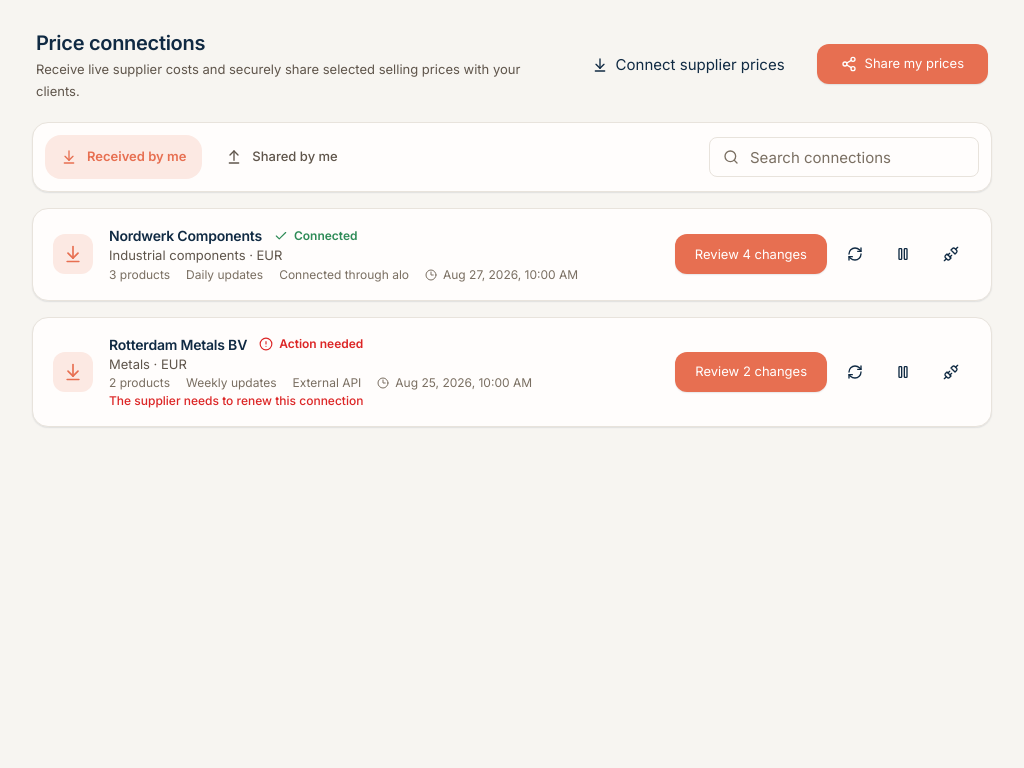
it: price connections › connects an alo supplier only after its invitation has been previewed
This screenshot has width=1024, height=768.
Expected: the heading "Nordwerk Components" is shown, top-left (109, 225), bottom-right (262, 246)
Click the button "Connect supplier prices" at (688, 65), box top-left (568, 44), bottom-right (809, 86)
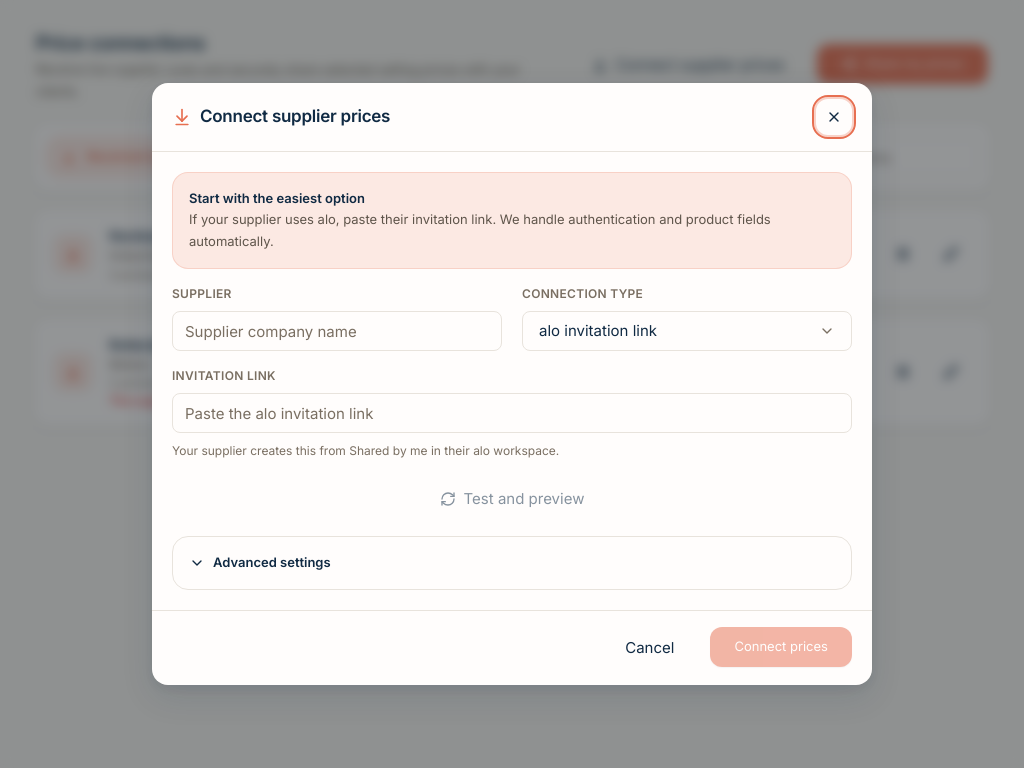
Type "Fjord Fasteners AS" into the field with placeholder "Supplier company name" at (337, 331), box top-left (172, 311), bottom-right (502, 351)
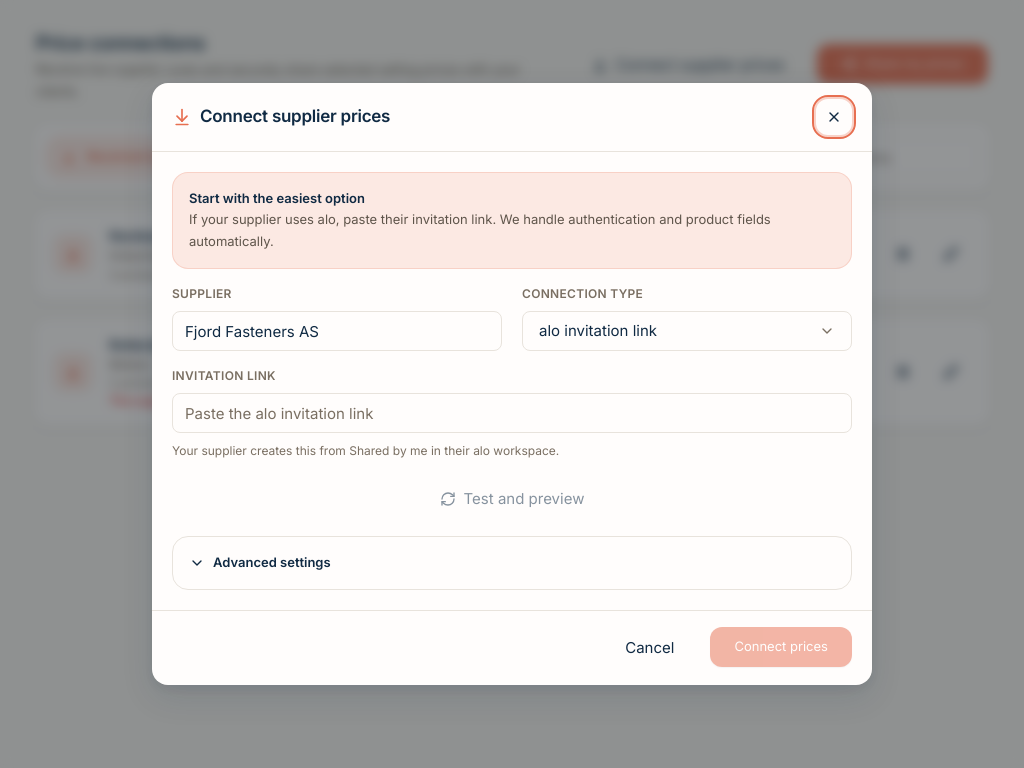
Result: the button "Test and preview" is disabled at top-left (172, 478), bottom-right (852, 520)
Type "https://alo.example/connect/prices/FJORD" into the field with placeholder "Paste the alo invitation link" at (512, 413), box top-left (172, 393), bottom-right (852, 433)
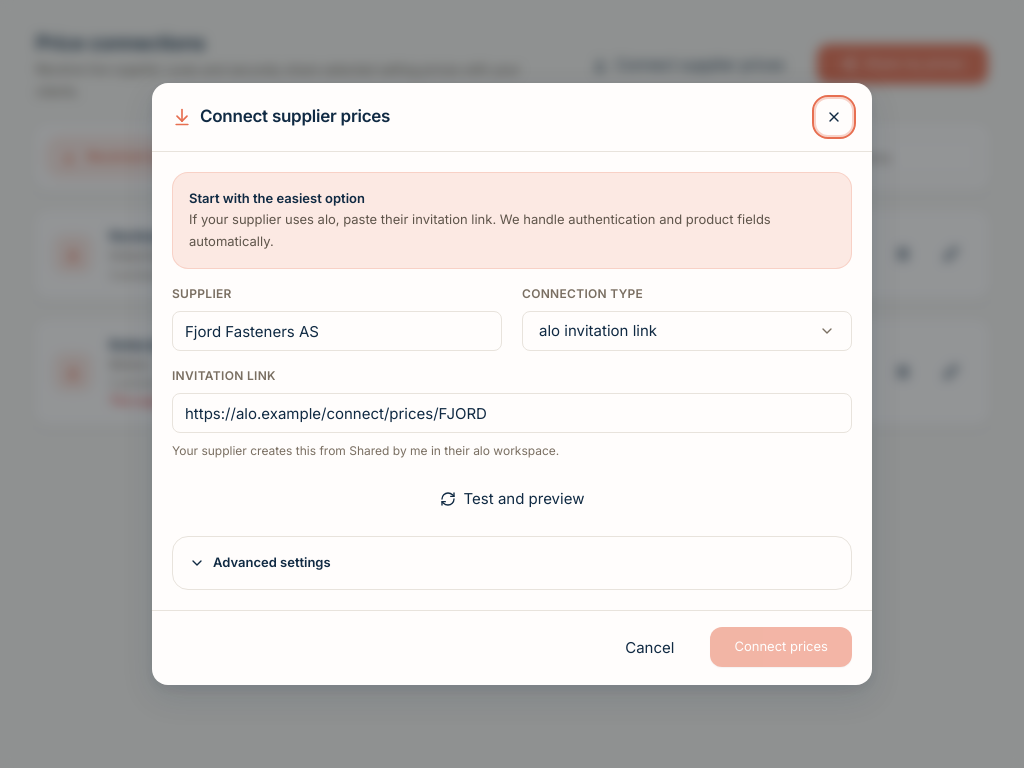
Click the button "Test and preview" at (512, 499), box top-left (172, 478), bottom-right (852, 520)
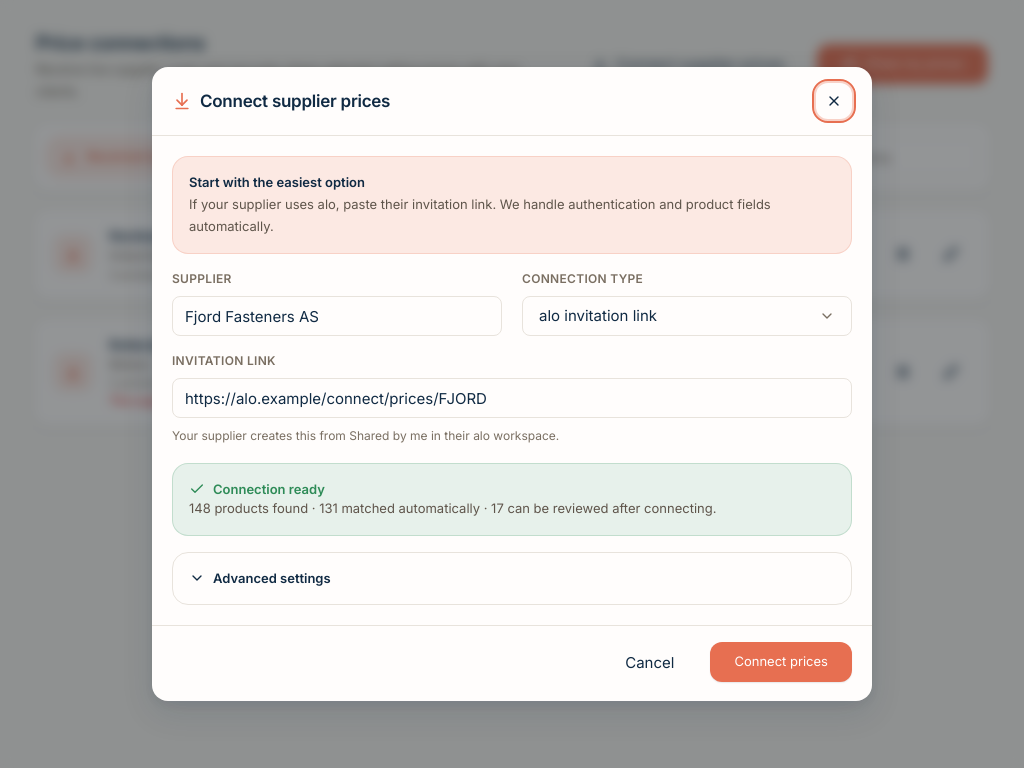
Result: the text "148 products found · 131 matched automatically · 17 can be reviewed after connecting." is shown at top-left (189, 500), bottom-right (716, 516)
Click the button "Connect prices" at (781, 662), box top-left (710, 642), bottom-right (852, 682)
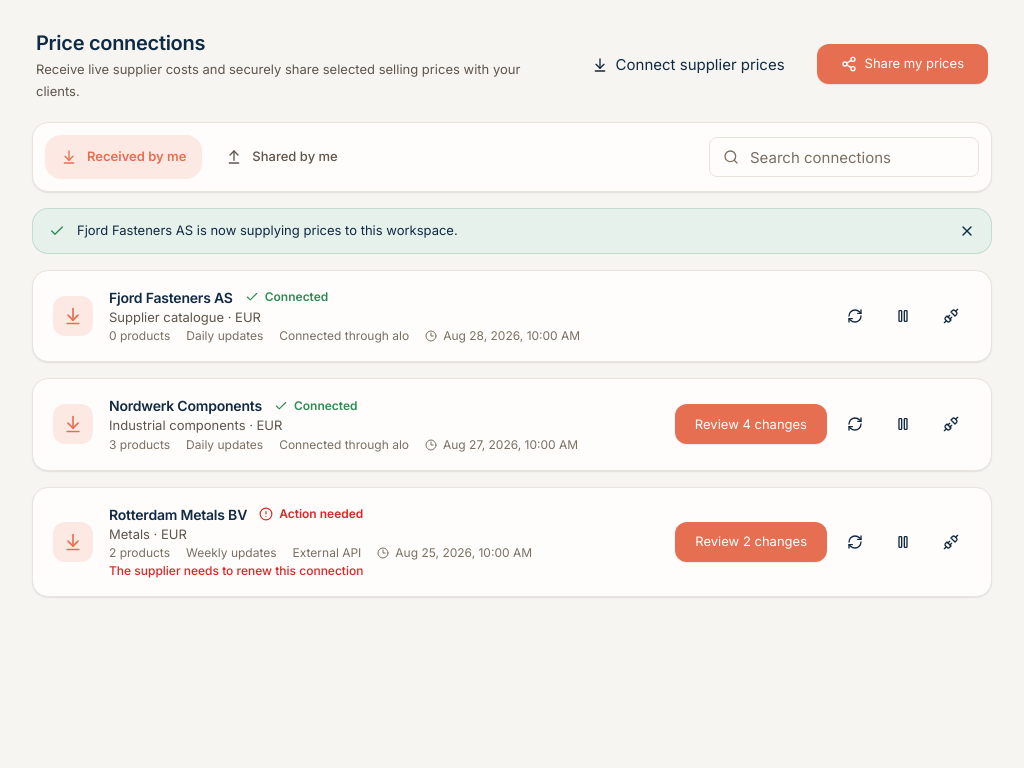
Result: the heading "Fjord Fasteners AS" is shown at top-left (109, 287), bottom-right (233, 308)
Result: the text "Fjord Fasteners AS is now supplying prices to this workspace." is shown at top-left (32, 208), bottom-right (992, 254)
